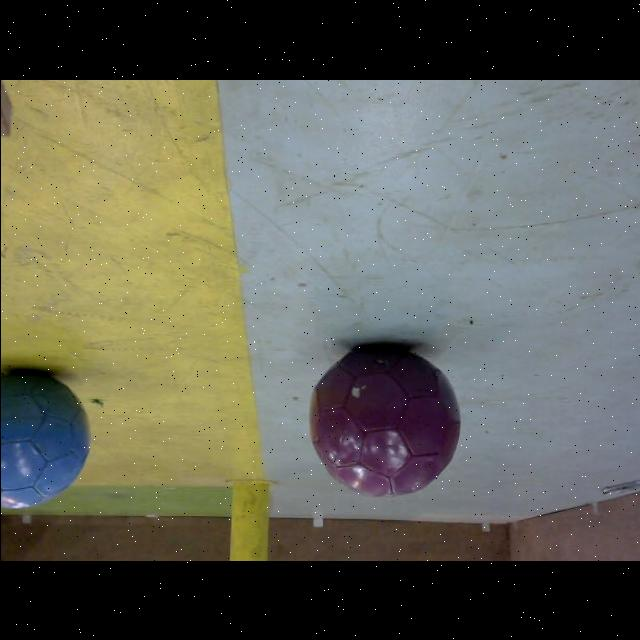B: (0, 368, 90, 509)
P: (304, 343, 462, 502)
